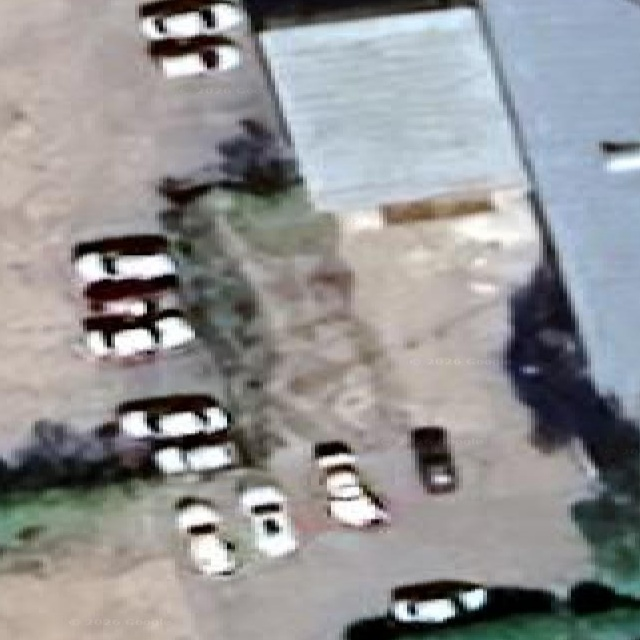car: (156, 118, 299, 227), (344, 580, 564, 639), (387, 580, 557, 627), (313, 440, 387, 526), (71, 233, 175, 286), (85, 310, 193, 360), (116, 393, 228, 435), (175, 497, 235, 575), (388, 580, 487, 624), (158, 171, 235, 227), (139, 0, 244, 40), (240, 483, 296, 556), (147, 35, 240, 76), (83, 275, 178, 315), (154, 430, 236, 473), (84, 313, 156, 360), (411, 426, 456, 492), (564, 580, 639, 615), (190, 524, 236, 575), (183, 431, 236, 472), (148, 308, 195, 350), (176, 496, 220, 533), (340, 615, 397, 639), (600, 140, 639, 172), (154, 443, 187, 475), (92, 420, 120, 440), (404, 632, 408, 635)
